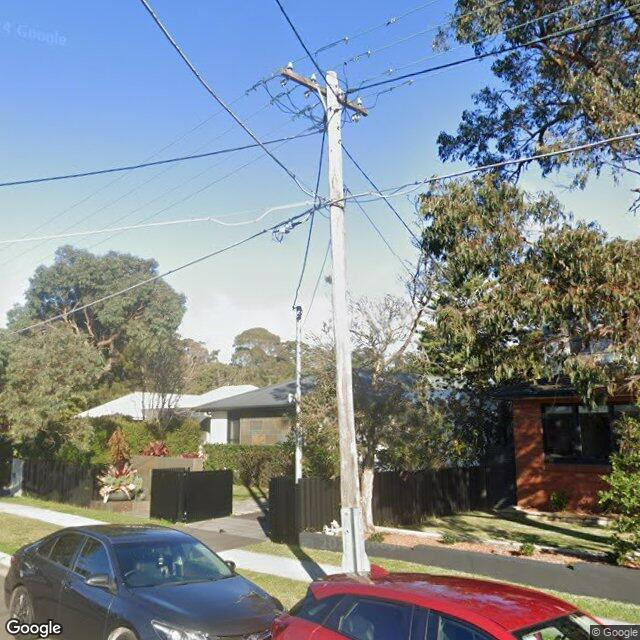crossarm: (282, 65, 367, 118)
steel-pole: (295, 307, 302, 486)
timber-pole: (324, 70, 369, 574)
